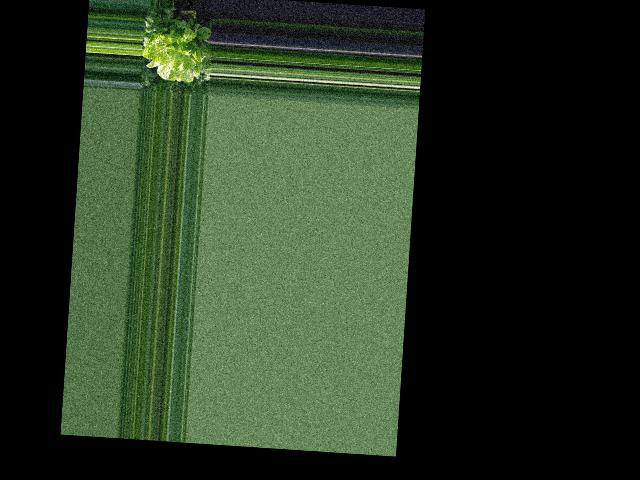lettuce: (147, 20, 211, 82)
